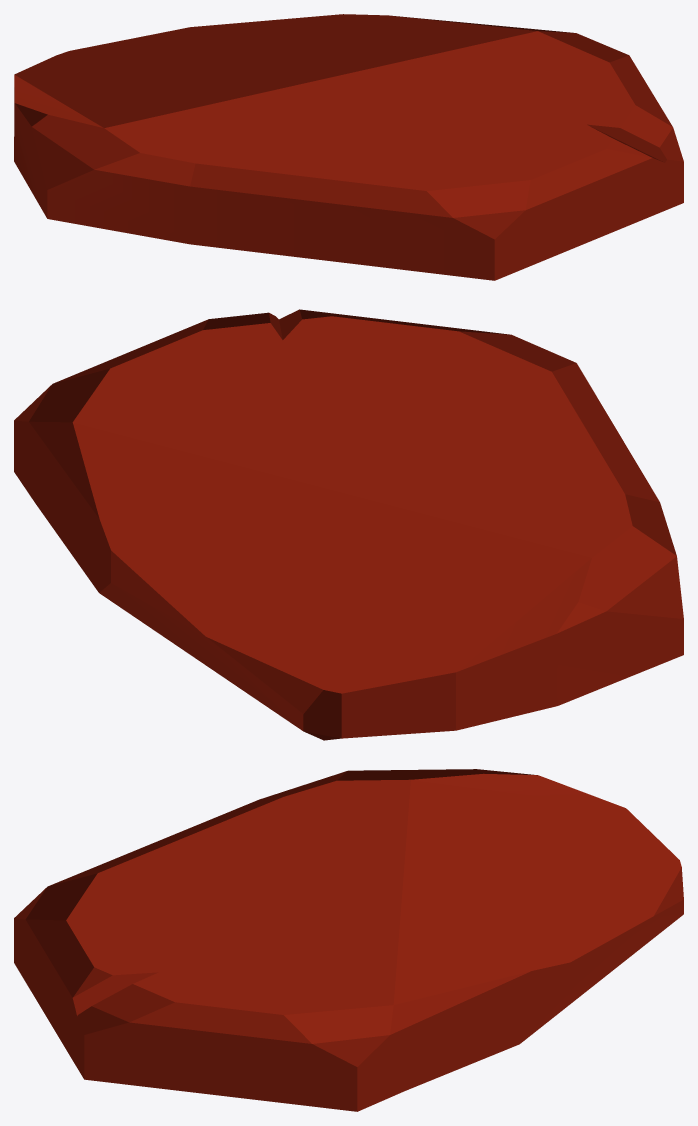
File: SM_Flat_Rock_03.fbx
3 views of the same model, one above another, from view 1: azimuth 30°, elevation 25°; view 2: azimuth 150°, elevation 25°; view 3: azimuth 270°, elevation 25° (orthographic). The views are drawn at different scales.
Parts seen in each view (by area): view 1: SM_Flat_Rock_03; view 2: SM_Flat_Rock_03; view 3: SM_Flat_Rock_03.
Part boxes in pixels (left/top/right/bottom): SM_Flat_Rock_03: left=14, top=14, right=683, bottom=280; SM_Flat_Rock_03: left=14, top=309, right=683, bottom=740; SM_Flat_Rock_03: left=14, top=769, right=683, bottom=1111.
Bounding box in the file's own units: 335 × 47 × 324.
